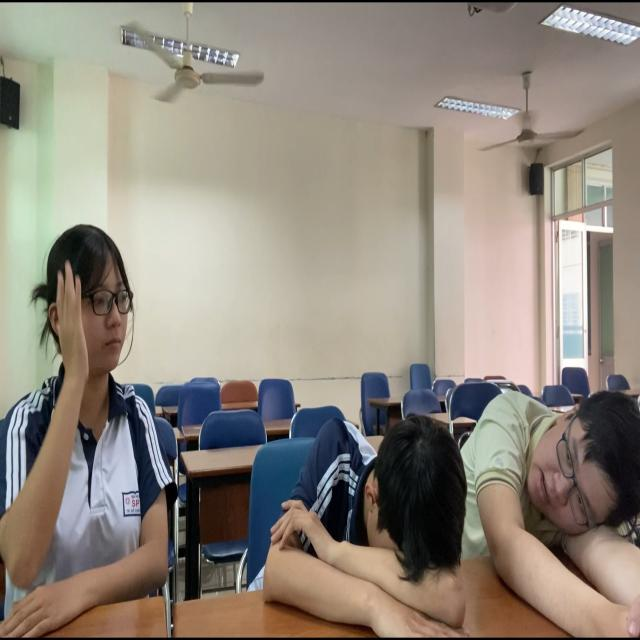raise_hand: (1, 197, 193, 640)
sleep: (258, 404, 481, 640), (470, 367, 640, 640)
